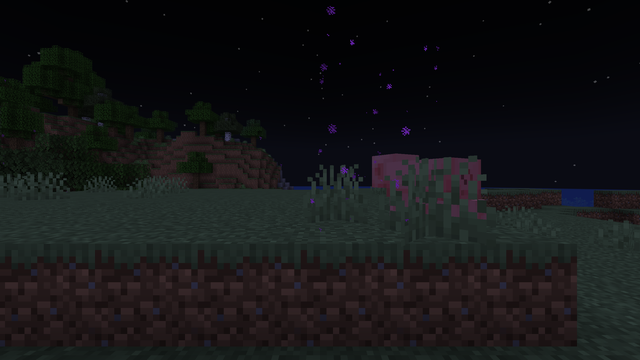cochons: (388, 156, 484, 231)
